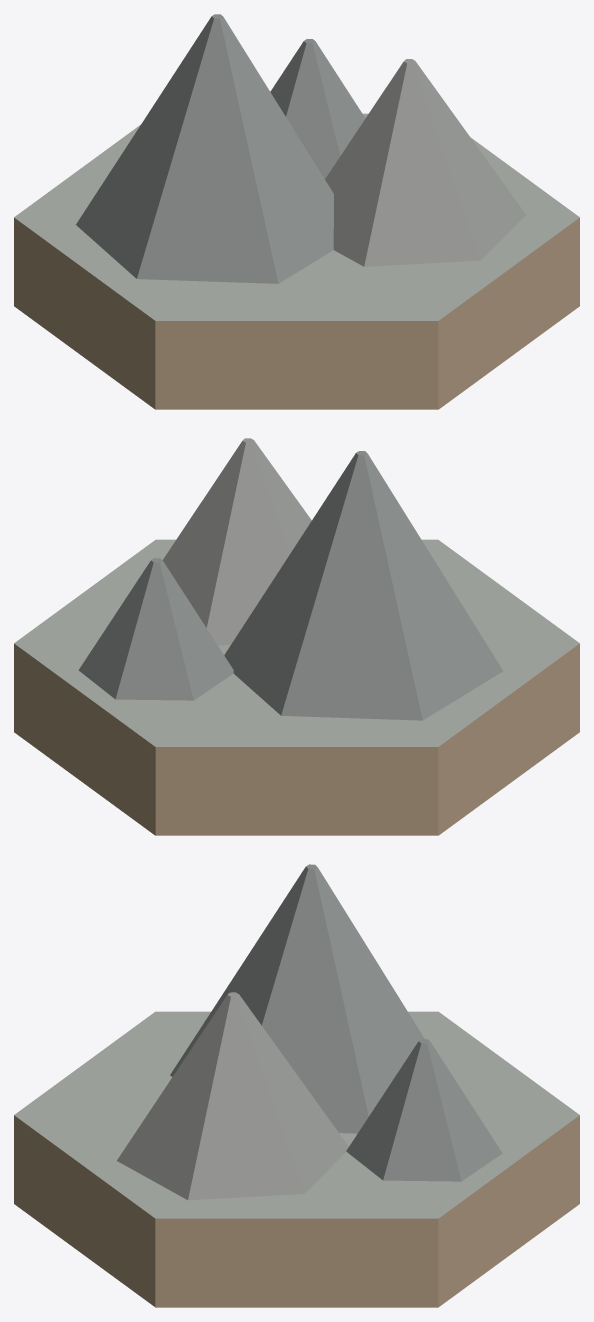
Rendered from stone-mountain-2.glb.
3 views of the same model, one above another, from view 1: azimuth 30°, elevation 25°; view 2: azimuth 150°, elevation 25°; view 3: azimuth 270°, elevation 25° (orthographic).
Visible parts, largest first — view 1: rough_mountain_hex_base, dark_ridge_0, dark_ridge_1, dark_ridge_2; view 2: rough_mountain_hex_base, dark_ridge_0, dark_ridge_1, dark_ridge_2; view 3: rough_mountain_hex_base, dark_ridge_1, dark_ridge_0, dark_ridge_2.
Boxes of the visible parts, left/top/right/bottom form: rough_mountain_hex_base: left=14, top=113, right=579, bottom=409; dark_ridge_0: left=76, top=14, right=333, bottom=283; dark_ridge_1: left=325, top=59, right=525, bottom=266; dark_ridge_2: left=270, top=39, right=365, bottom=178; rough_mountain_hex_base: left=14, top=539, right=579, bottom=835; dark_ridge_0: left=224, top=451, right=502, bottom=720; dark_ridge_1: left=162, top=438, right=311, bottom=645; dark_ridge_2: left=78, top=558, right=233, bottom=700; rough_mountain_hex_base: left=14, top=1011, right=579, bottom=1307; dark_ridge_1: left=117, top=992, right=348, bottom=1200; dark_ridge_0: left=170, top=864, right=424, bottom=1133; dark_ridge_2: left=346, top=1039, right=502, bottom=1181.
Bounding box in the file's own units: 1 × 0.68 × 1.15.
